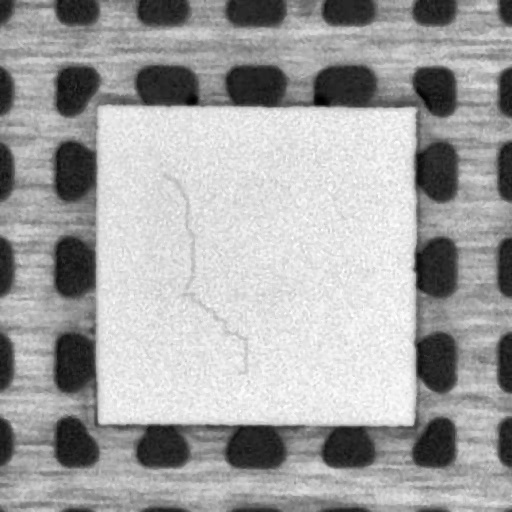DIE_CRACK: (156, 172, 249, 372)
